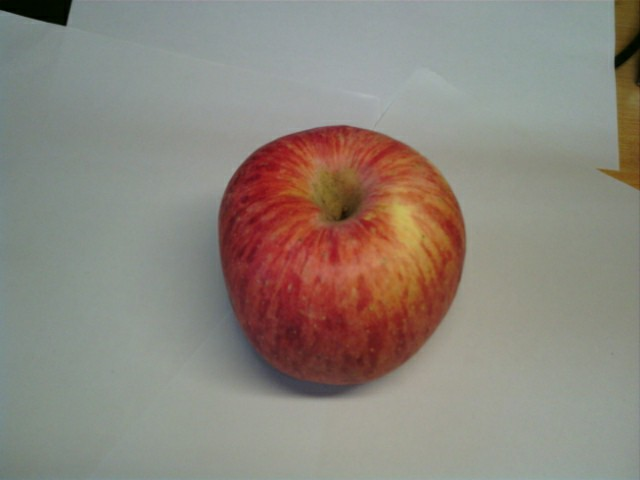normal_apple: (217, 123, 472, 389)
